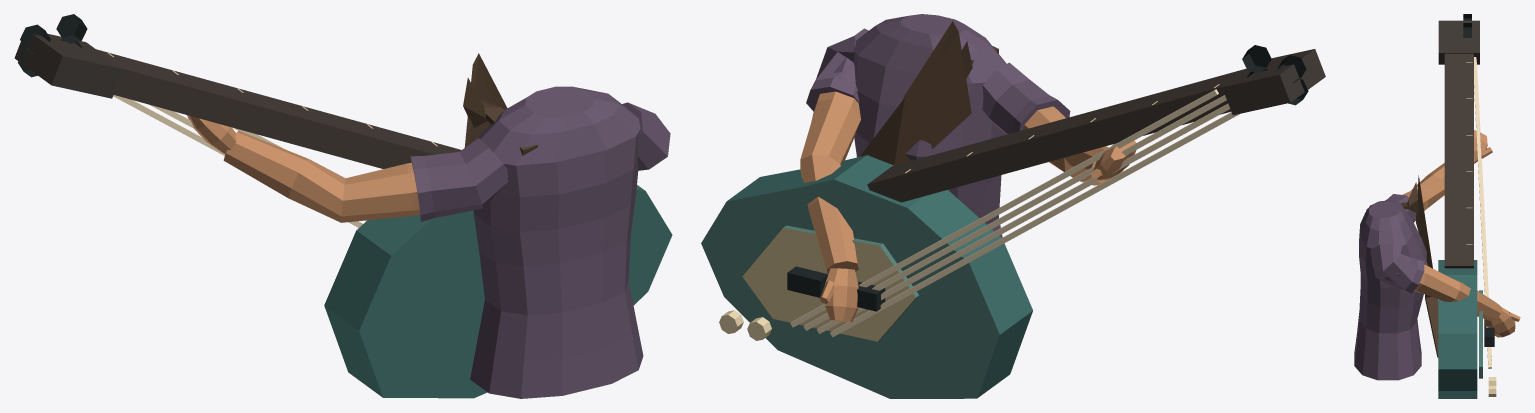
The model's file is lwf_bassist_female_kit_v2.glb.
3 renders of one model, left to right at view 1: azimuth 30°, elevation 25°; view 2: azimuth 150°, elevation 25°; view 3: azimuth 270°, elevation 25°, orthographic. The views are drawn at different scales.
Visible parts, largest first — view 1: LWF_Bassist_SolidBass, LWF_Bassist_RightPlayingArm, LWF_Bassist_LeftPlayingArm, LWF_Fitted_LeatherStrap; view 2: LWF_Bassist_SolidBass, LWF_Bassist_RightPlayingArm, LWF_Fitted_LeatherStrap, LWF_Bassist_LeftPlayingArm; view 3: LWF_Bassist_SolidBass, LWF_Bassist_RightPlayingArm, LWF_Bassist_LeftPlayingArm, LWF_Fitted_LeatherStrap.
Part boxes in pixels (x1,y1,x2,y2): LWF_Bassist_SolidBass: (14,14,672,398); LWF_Bassist_RightPlayingArm: (470,86,670,398); LWF_Bassist_LeftPlayingArm: (187,115,508,222); LWF_Fitted_LeatherStrap: (463,53,538,155); LWF_Bassist_SolidBass: (701,45,1325,398); LWF_Bassist_RightPlayingArm: (800,14,1006,322); LWF_Fitted_LeatherStrap: (860,21,998,165); LWF_Bassist_LeftPlayingArm: (982,62,1136,185); LWF_Bassist_SolidBass: (1438,14,1496,398); LWF_Bassist_RightPlayingArm: (1354,200,1520,380); LWF_Bassist_LeftPlayingArm: (1385,130,1492,222); LWF_Fitted_LeatherStrap: (1366,175,1438,357).
Bounding box in the file's own units: 1.17 × 0.8071 × 0.4817.
Materials: 3 (3 with a texture image).
